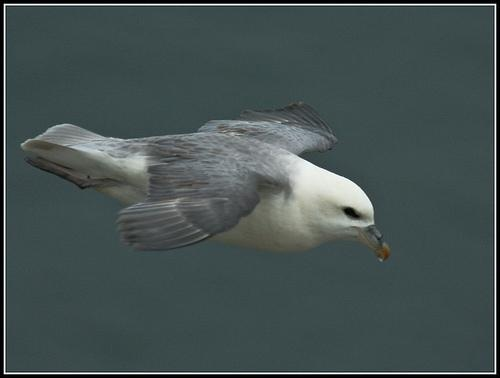bird: (16, 97, 393, 265)
